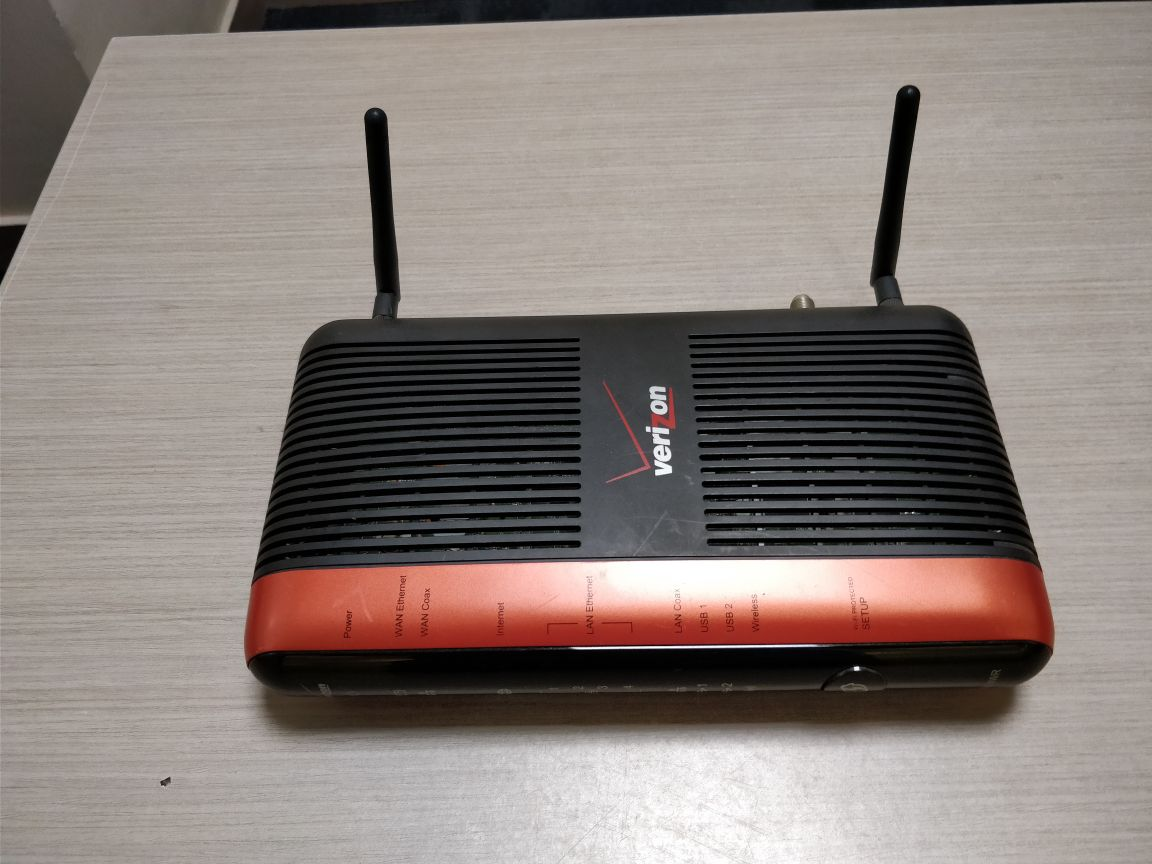Verizon Router: (229, 95, 1070, 750)
